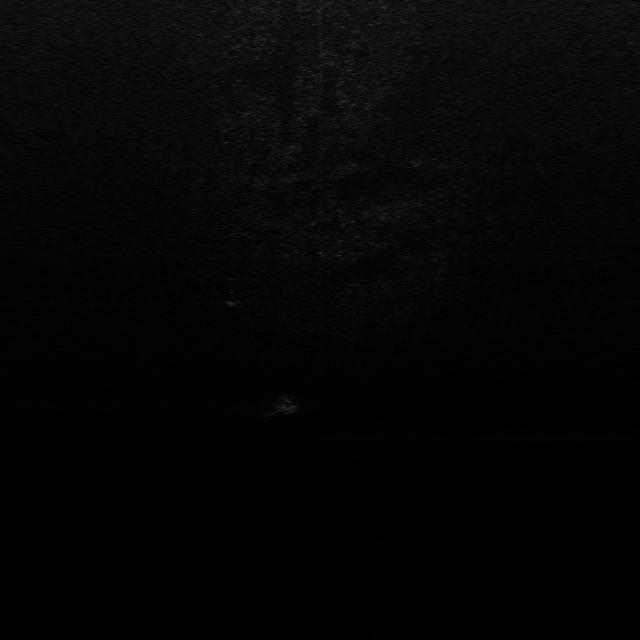ball: (274, 392, 302, 414)
circle cage: (219, 288, 247, 308)
